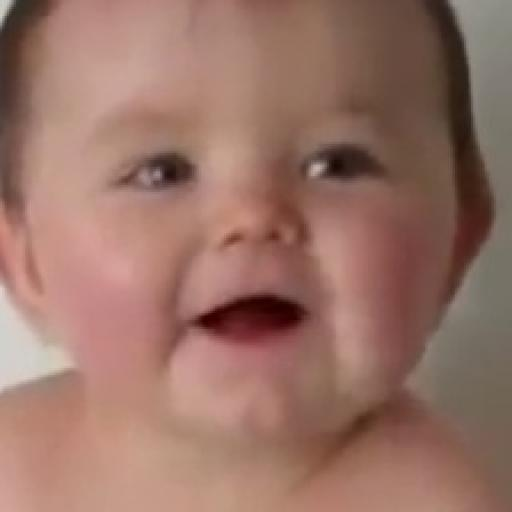Autism: (12, 0, 489, 471)
